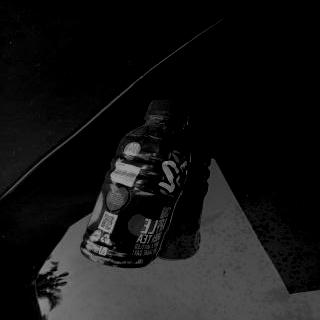bottle: (76, 96, 194, 270)
